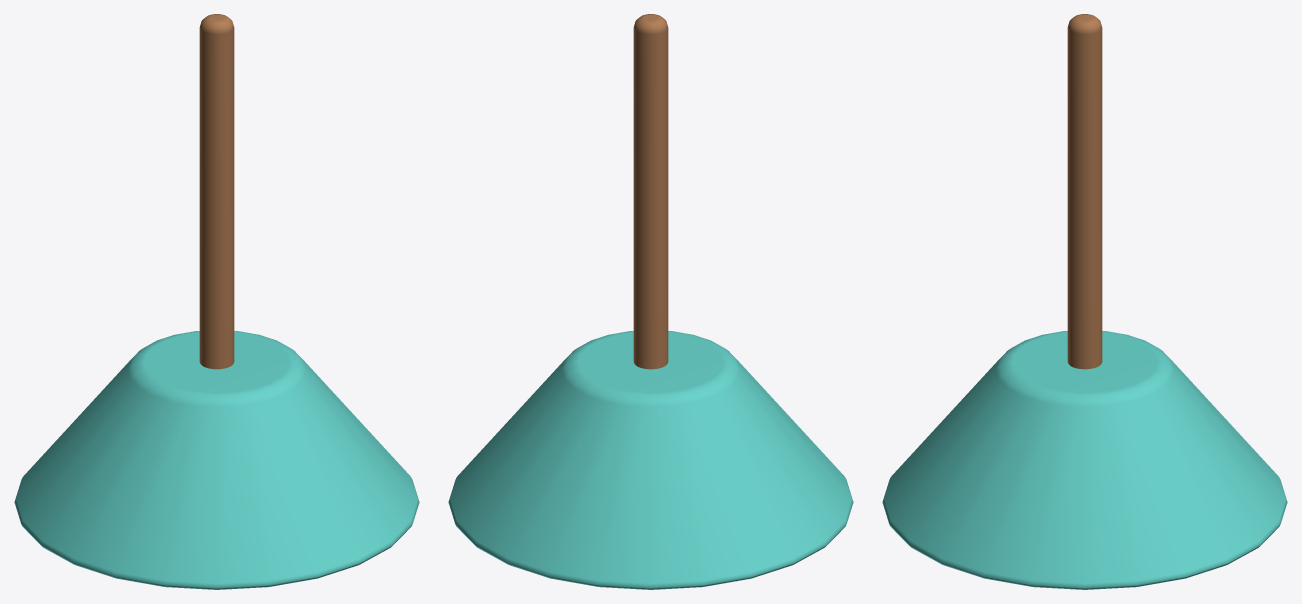
The model's file is pendant-lamp.glb.
The picture shows the model from 3 angles, left to right: view 1: azimuth 30°, elevation 25°; view 2: azimuth 150°, elevation 25°; view 3: azimuth 270°, elevation 25°; orthographic projection.
Visible parts, largest first — view 1: Pendant shade, Pendant cord; view 2: Pendant shade, Pendant cord; view 3: Pendant shade, Pendant cord.
Part boxes in pixels (x1,y1,x2,y2): Pendant shade: [14, 331, 419, 589]; Pendant cord: [199, 14, 234, 369]; Pendant shade: [448, 331, 853, 589]; Pendant cord: [633, 14, 668, 369]; Pendant shade: [882, 331, 1287, 589]; Pendant cord: [1067, 14, 1102, 369].
Bounding box in the file's own units: 0.5867 × 0.8 × 0.5867.
